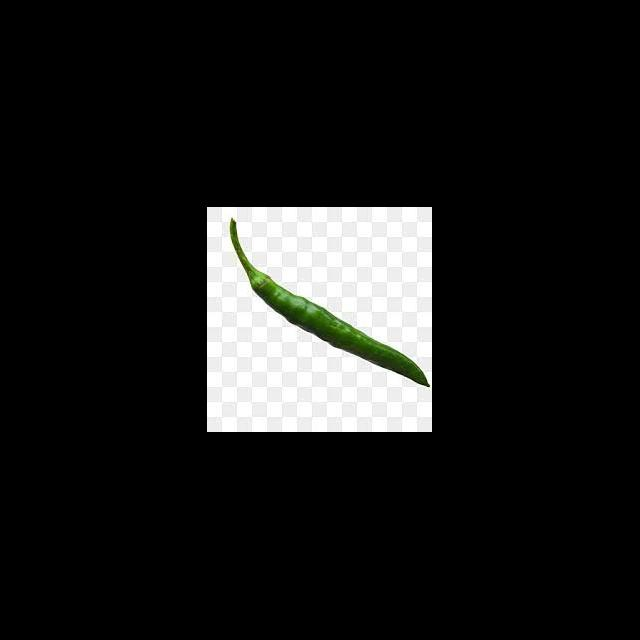chili_pepper: (228, 218, 430, 388)
